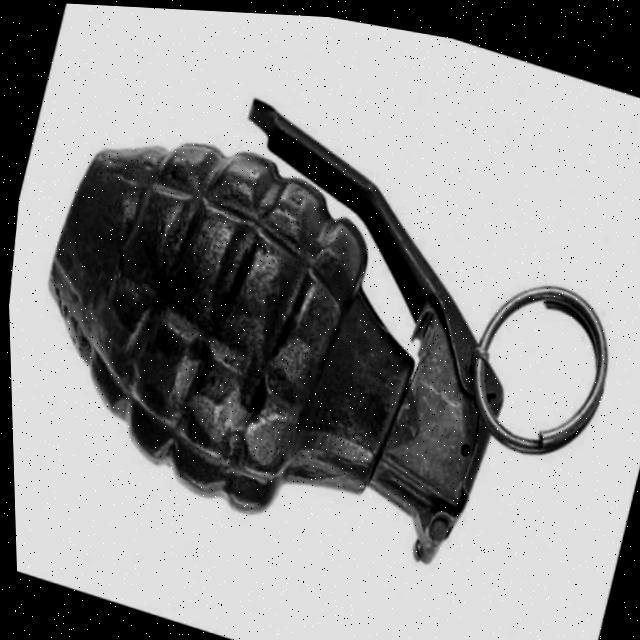grenade: (1, 30, 640, 606)
